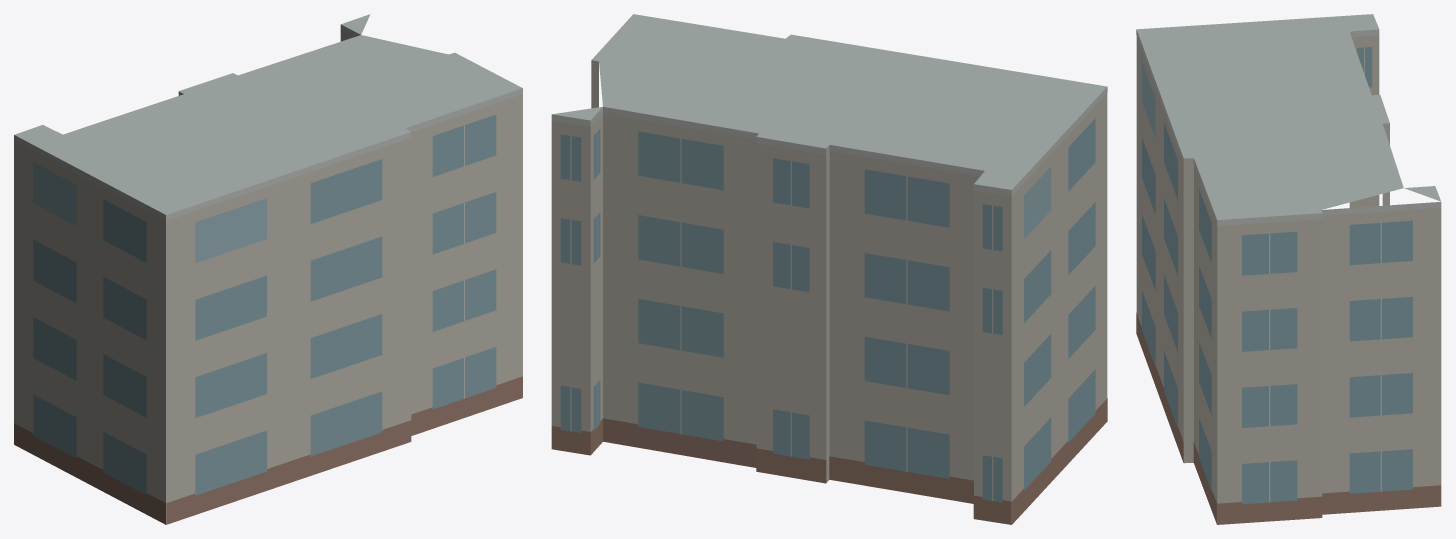
Rendered from survey-upis-32761911.glb.
3 renders of one model, left to right at view 1: azimuth 30°, elevation 25°; view 2: azimuth 150°, elevation 25°; view 3: azimuth 270°, elevation 25°, orthographic. The views are drawn at different scales.
Parts seen in each view (by area): view 1: survey-upis-32761911.tmp; view 2: survey-upis-32761911.tmp; view 3: survey-upis-32761911.tmp.
Part boxes in pixels (x1,y1,x2,y2): survey-upis-32761911.tmp: (14,14,522,524); survey-upis-32761911.tmp: (551,14,1107,524); survey-upis-32761911.tmp: (1136,14,1441,524).
Size of the model in its own units: 18.58 by 12.8 by 11.61.
